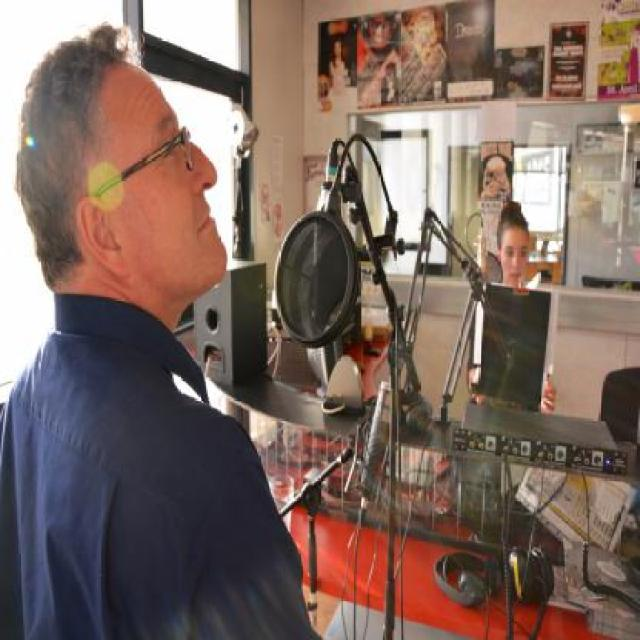earphone: (435, 539, 557, 620)
